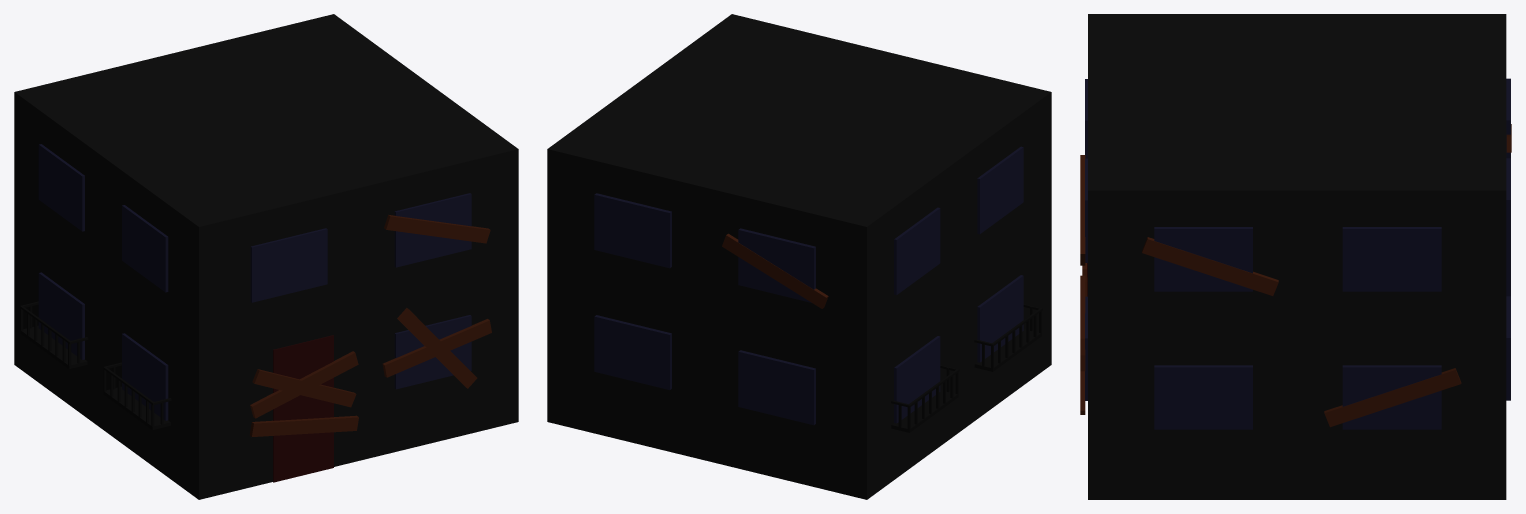
The model's file is Building2.FBX.
3 renders of one model, left to right at view 1: azimuth 30°, elevation 25°; view 2: azimuth 150°, elevation 25°; view 3: azimuth 270°, elevation 25°, orthographic. The views are drawn at different scales.
Parts seen in each view (by area): view 1: Box001, Box002, Box007, Box008, Box015, Box016, Box010, Box013, Box014, Box258, Box254, Box259 (+5 smaller); view 2: Box001, Box026, Box023, Box025, Box024, Box016, Box015, Box013, Box014, Box260, Box332, Box318; view 3: Box001, Box032, Box033, Box034, Box031, Box256, Box257, Box261, Box259, Box023, Box025.
Part boxes in pixels (left/top/right/bottom): Box001: left=14, top=14, right=518, bottom=499; Box002: left=273, top=335, right=333, bottom=482; Box007: left=250, top=228, right=327, bottom=302; Box008: left=394, top=193, right=471, bottom=267; Box015: left=38, top=144, right=84, bottom=231; Box016: left=122, top=205, right=168, bottom=292; Box010: left=394, top=315, right=471, bottom=389; Box013: left=38, top=272, right=84, bottom=359; Box014: left=122, top=333, right=168, bottom=420; Box258: left=382, top=319, right=491, bottom=377; Box254: left=249, top=415, right=358, bottom=436; Box259: left=384, top=215, right=490, bottom=243; Box001: left=547, top=14, right=1051, bottom=499; Box026: left=738, top=350, right=815, bottom=425; Box023: left=594, top=193, right=671, bottom=268; Box025: left=594, top=315, right=671, bottom=389; Box024: left=738, top=228, right=815, bottom=302; Box016: left=977, top=146, right=1023, bottom=234; Box015: left=894, top=207, right=940, bottom=294; Box013: left=894, top=336, right=940, bottom=423; Box014: left=977, top=275, right=1023, bottom=362; Box260: left=722, top=233, right=828, bottom=308; Box332: left=974, top=328, right=1041, bottom=371; Box318: left=891, top=389, right=958, bottom=432; Box001: left=1088, top=14, right=1506, bottom=499; Box032: left=1342, top=227, right=1441, bottom=291; Box033: left=1154, top=365, right=1252, bottom=429; Box034: left=1342, top=365, right=1441, bottom=429; Box031: left=1154, top=227, right=1252, bottom=291; Box256: left=1324, top=368, right=1461, bottom=427; Box257: left=1142, top=237, right=1278, bottom=295; Box261: left=1080, top=275, right=1085, bottom=414; Box259: left=1080, top=155, right=1085, bottom=265; Box023: left=1506, top=158, right=1510, bottom=262; Box025: left=1506, top=296, right=1510, bottom=400.
Bounding box in the file's own units: 53.54 × 40.86 × 51.54.
